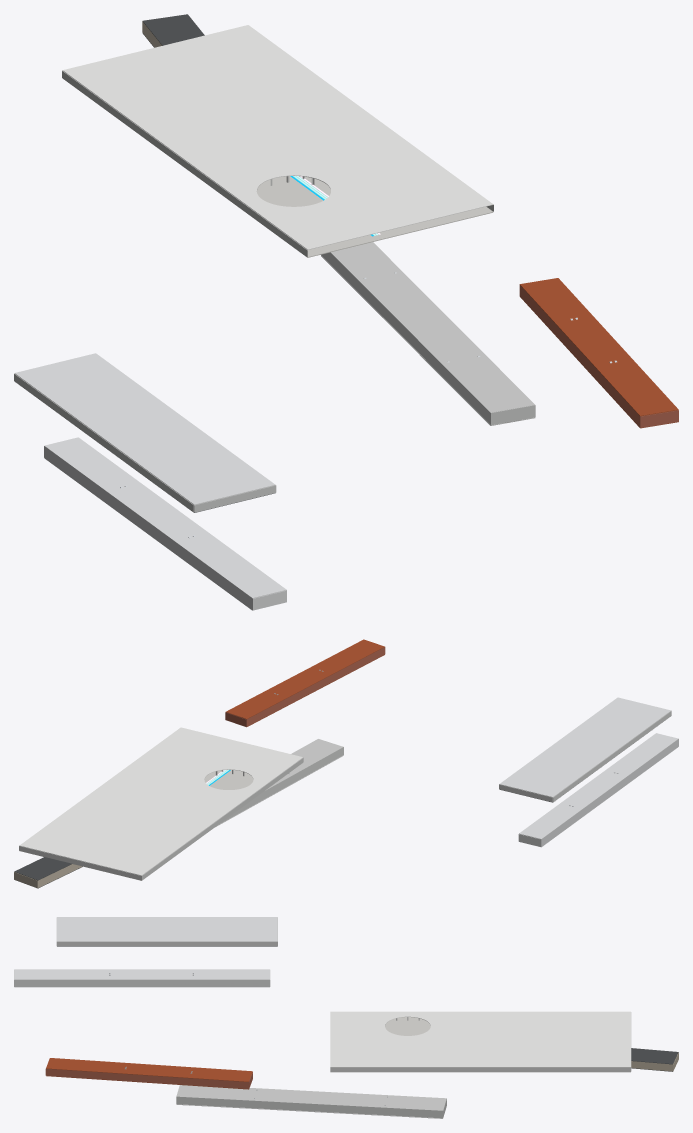
File: ug_interiors.glb
The picture shows the model from 3 angles, top to bottom: view 1: azimuth 30°, elevation 25°; view 2: azimuth 150°, elevation 25°; view 3: azimuth 270°, elevation 25°; orthographic projection. The views are drawn at different scales.
Parts seen in each view (by area): view 1: UGI_B1_Ceiling, UGI_AREXB2_Ceiling, UGI_GTXA_CeilingSlab, UGI_AREX_CeilingSlab, UGI_L4_CeilingSlab, UGI_B1_Floor, UGI_AREX_Walls, UGI_GTXA_Walls, UGI_AREXB2_Walls, UGI_B1_Walls, UGI_L4_Walls, UGI_L1_CeilingSlab; view 2: UGI_B1_Ceiling, UGI_AREXB2_Ceiling, UGI_AREX_CeilingSlab, UGI_L4_CeilingSlab, UGI_B1_Walls, UGI_AREX_Walls, UGI_L4_Walls, UGI_GTXA_CeilingSlab, UGI_AREXB2_Walls, UGI_GTXA_Walls, UGI_B1_Floor, UGI_L1_CeilingSlab (+1 smaller); view 3: UGI_B1_Ceiling, UGI_AREXB2_Ceiling, UGI_GTXA_CeilingSlab, UGI_AREX_CeilingSlab, UGI_L4_CeilingSlab, UGI_GTXA_Walls, UGI_AREX_Walls, UGI_L4_Walls, UGI_B1_Walls, UGI_AREXB2_Walls, UGI_B1_Floor, UGI_L1_CeilingSlab (+1 smaller).
Part boxes in pixels (x1,y1,x2,y2): UGI_B1_Ceiling: (62,25,493,249); UGI_AREXB2_Ceiling: (14,353,275,504); UGI_GTXA_CeilingSlab: (321,242,535,425); UGI_AREX_CeilingSlab: (44,437,286,610); UGI_L4_CeilingSlab: (519,278,678,428); UGI_B1_Floor: (64,79,493,257); UGI_AREX_Walls: (44,446,286,610); UGI_GTXA_Walls: (321,252,535,425); UGI_AREXB2_Walls: (14,373,276,512); UGI_B1_Walls: (62,70,493,257); UGI_L4_Walls: (519,285,678,427); UGI_L1_CeilingSlab: (142,14,204,47); UGI_B1_Ceiling: (19,727,302,875); UGI_AREXB2_Ceiling: (499,697,671,797); UGI_AREX_CeilingSlab: (519,733,678,847); UGI_L4_CeilingSlab: (226,639,384,727); UGI_B1_Walls: (19,757,303,880); UGI_AREX_Walls: (518,739,678,846); UGI_L4_Walls: (225,647,385,726); UGI_GTXA_CeilingSlab: (216,739,343,826); UGI_AREXB2_Walls: (499,711,671,802); UGI_GTXA_Walls: (219,739,343,824); UGI_B1_Floor: (20,763,302,880); UGI_L1_CeilingSlab: (14,857,82,888); UGI_B1_Ceiling: (330,1011,630,1067); UGI_AREXB2_Ceiling: (57,917,277,941); UGI_GTXA_CeilingSlab: (176,1085,446,1118); UGI_AREX_CeilingSlab: (14,969,269,987); UGI_L4_CeilingSlab: (46,1058,252,1089); UGI_GTXA_Walls: (176,1085,446,1118); UGI_AREX_Walls: (14,970,270,986); UGI_L4_Walls: (45,1058,252,1089); UGI_B1_Walls: (330,1012,631,1071); UGI_AREXB2_Walls: (56,917,277,946); UGI_B1_Floor: (330,1017,630,1072); UGI_L1_CeilingSlab: (631,1048,678,1071).
Bounding box in the file's own units: 296 × 55.1 × 531.
